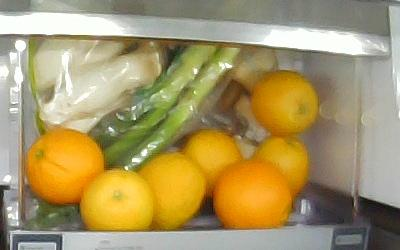orange: (24, 130, 105, 204), (132, 151, 205, 228), (213, 158, 292, 225), (80, 168, 153, 230), (251, 69, 318, 135), (182, 127, 244, 194), (251, 133, 310, 200)
